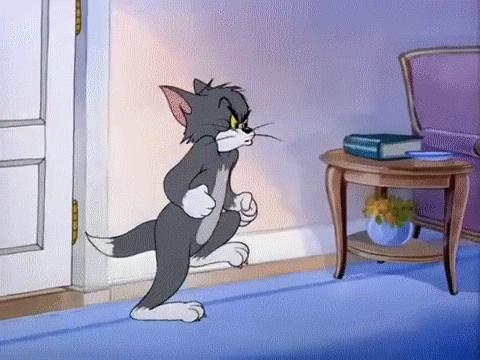tom: (82, 77, 279, 324)
